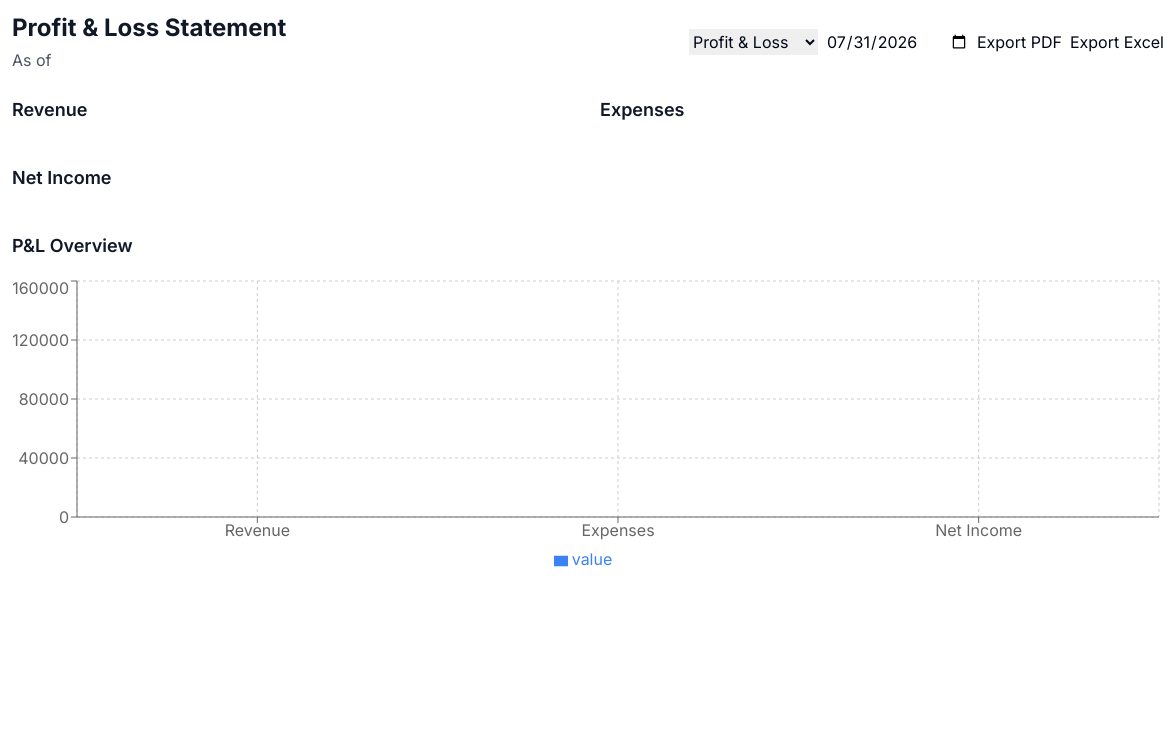
PLBalanceSheetPage - Comprehensive Tests › Input Fields › should switch between P&L and Balance Sheet
Select "Balance Sheet" in the dropdown. click: (753, 42)
box: [689,29,818,55]
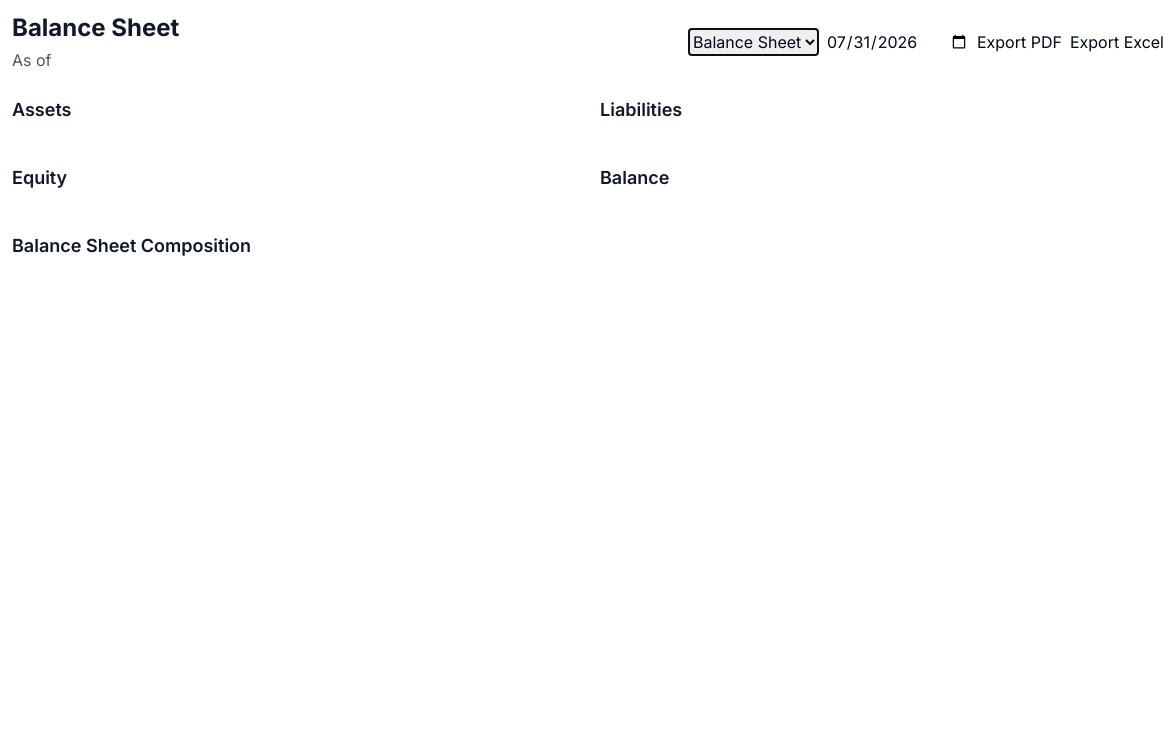
Check: the heading "Balance Sheet" is shown, box [12,12,179,44]
